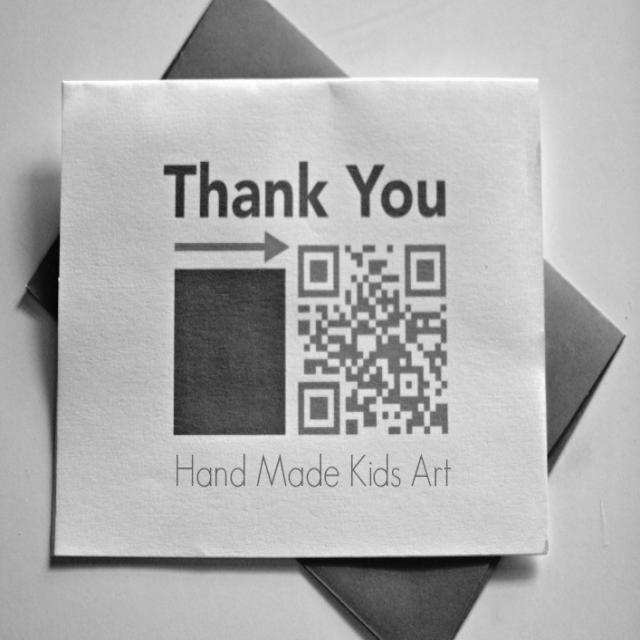QR-codes: (296, 242, 452, 436)
